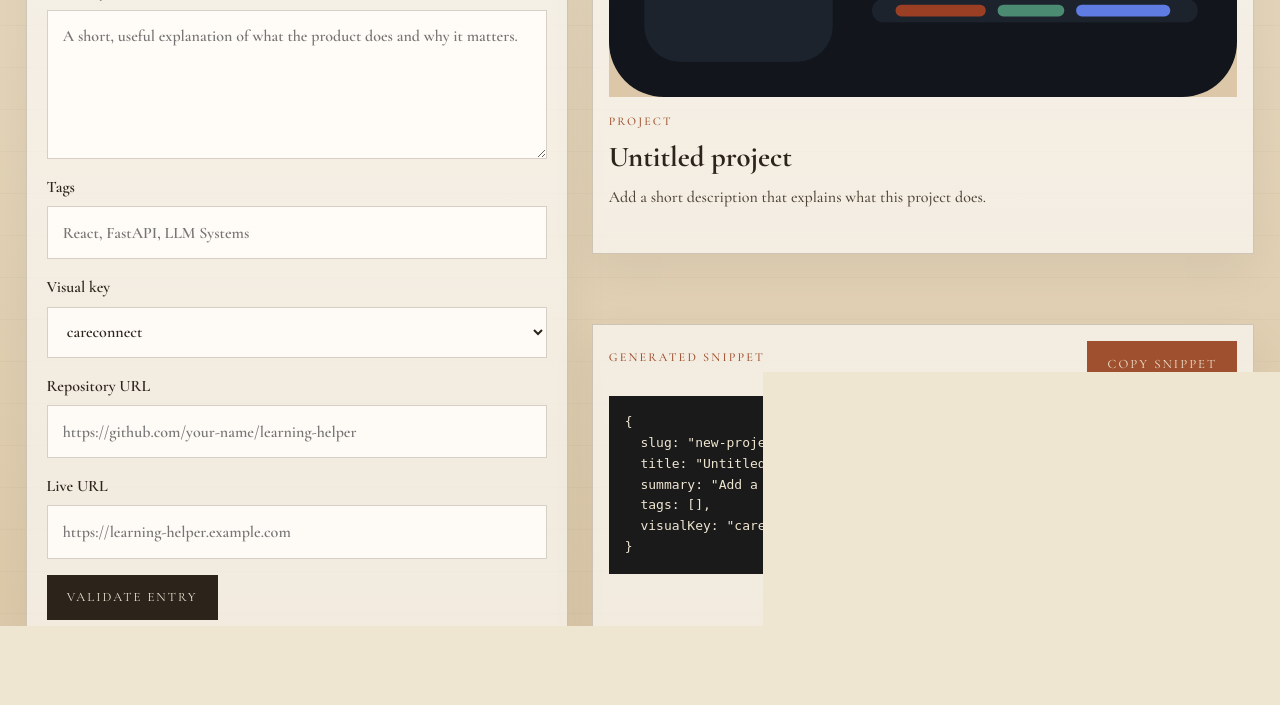
Test: portfolio app › renders the isolated studio flow and validates required product fields
(page scrolled)
Step 1. Click the button "Validate entry" → coordinates (132, 597), box 47,575 -> 218,620
(page scrolled)
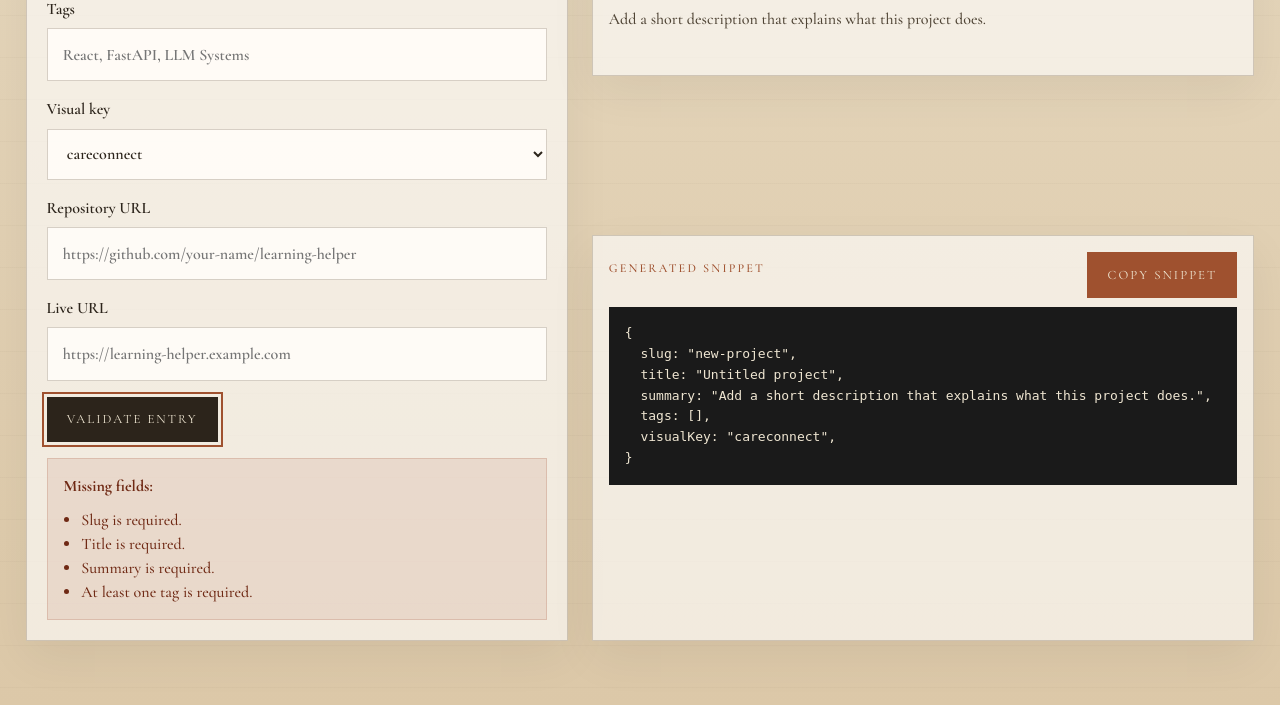
Now the message shows "Slug is required", box 81,510 -> 182,530
Now the message shows "Title is required", box 81,534 -> 185,554
Now the message shows "Summary is required", box 81,558 -> 214,578
